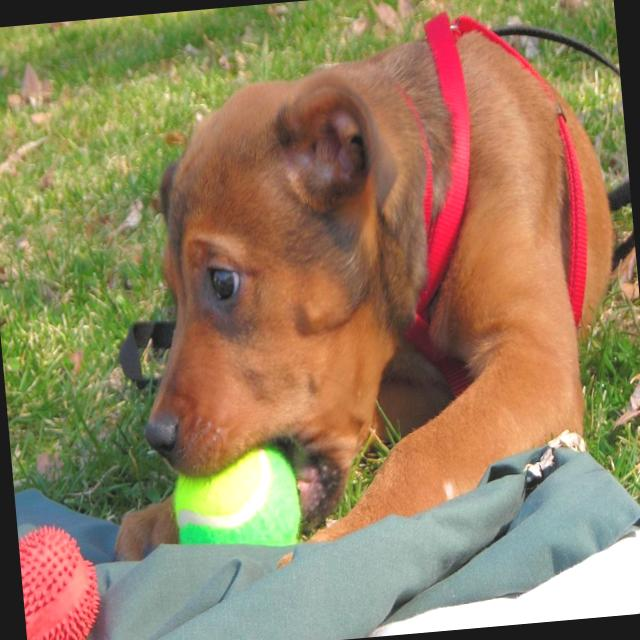Tennis Ball: (170, 439, 304, 554)
